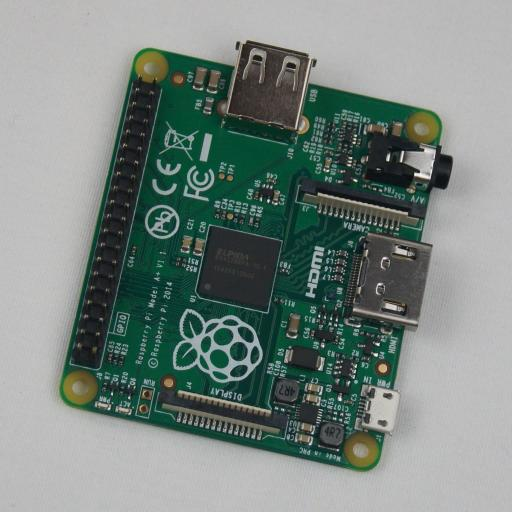Raspberry Pi A-: (59, 40, 453, 472)
